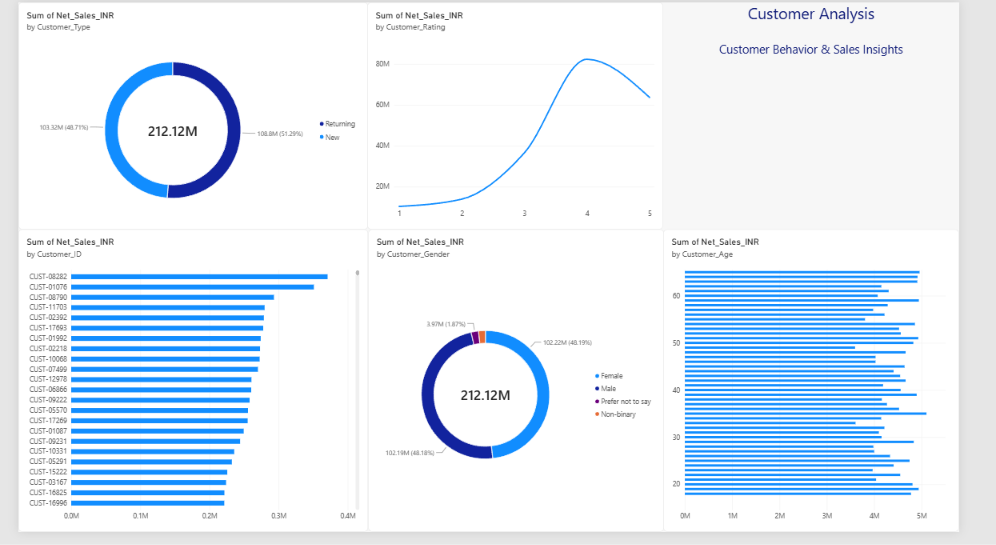

This screenshot's page, from the dashboard's own definition file:
{"tool":"powerbi","page":{"name":"Customer Analysis","canvas":[1920,1080],"ordinal":2},"visuals":[{"type":"clusteredBarChart","fields":{"Category":["recent_ecommerce_sales_dataset_2025_2026_30000_rows (1).Customer_ID"],"Y":["Sum(recent_ecommerce_sales_dataset_2025_2026_30000_rows (1).Net_Sales_INR)"]},"box":[0,463.3,713.3,616.7],"z":0},{"type":"donutChart","fields":{"Category":["recent_ecommerce_sales_dataset_2025_2026_30000_rows (1).Customer_Gender"],"Y":["Sum(recent_ecommerce_sales_dataset_2025_2026_30000_rows (1).Net_Sales_INR)"]},"box":[713.3,463.3,603.3,616.7],"z":1},{"type":"clusteredBarChart","fields":{"Category":["recent_ecommerce_sales_dataset_2025_2026_30000_rows (1).Customer_Age"],"Y":["Sum(recent_ecommerce_sales_dataset_2025_2026_30000_rows (1).Net_Sales_INR)"]},"box":[1316.7,463.3,603.3,616.7],"z":2},{"type":"donutChart","fields":{"Category":["recent_ecommerce_sales_dataset_2025_2026_30000_rows (1).Customer_Type"],"Y":["Sum(recent_ecommerce_sales_dataset_2025_2026_30000_rows (1).Net_Sales_INR)"]},"box":[0,0,713.3,463.3],"z":3},{"type":"lineChart","fields":{"Category":["recent_ecommerce_sales_dataset_2025_2026_30000_rows (1).Customer_Rating"],"Y":["Sum(recent_ecommerce_sales_dataset_2025_2026_30000_rows (1).Net_Sales_INR)"]},"box":[713,0,603,463],"z":4},{"type":"textbox","box":[1317,0,603,463],"z":5}]}

Visuals, with their boxes in screenshot pixels (x1, y1, x2, y2), scaled from the page's 1920x1080 canvas onto the 996x545 screenshot:
clusteredBarChart - recent_ecommerce_sales_dataset_2025_2026_30000_rows (1).Customer_ID x Sum(recent_ecommerce_sales_dataset_2025_2026_30000_rows (1).Net_Sales_INR): {"left": 0, "top": 234, "right": 370, "bottom": 544}
donutChart - recent_ecommerce_sales_dataset_2025_2026_30000_rows (1).Customer_Gender x Sum(recent_ecommerce_sales_dataset_2025_2026_30000_rows (1).Net_Sales_INR): {"left": 370, "top": 234, "right": 683, "bottom": 544}
clusteredBarChart - recent_ecommerce_sales_dataset_2025_2026_30000_rows (1).Customer_Age x Sum(recent_ecommerce_sales_dataset_2025_2026_30000_rows (1).Net_Sales_INR): {"left": 683, "top": 234, "right": 995, "bottom": 544}
donutChart - recent_ecommerce_sales_dataset_2025_2026_30000_rows (1).Customer_Type x Sum(recent_ecommerce_sales_dataset_2025_2026_30000_rows (1).Net_Sales_INR): {"left": 0, "top": 0, "right": 370, "bottom": 234}
lineChart - recent_ecommerce_sales_dataset_2025_2026_30000_rows (1).Customer_Rating x Sum(recent_ecommerce_sales_dataset_2025_2026_30000_rows (1).Net_Sales_INR): {"left": 370, "top": 0, "right": 683, "bottom": 234}
textbox: {"left": 683, "top": 0, "right": 995, "bottom": 234}
